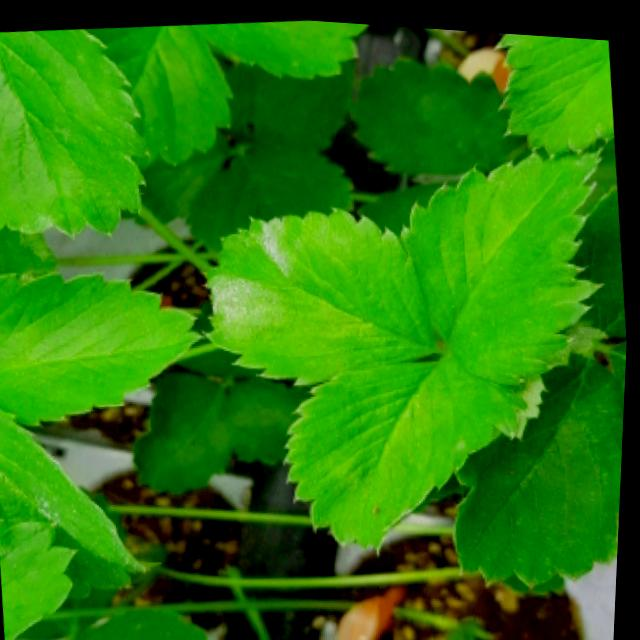Powdery Mildew Leaf: (203, 200, 439, 382), (0, 403, 166, 601)
